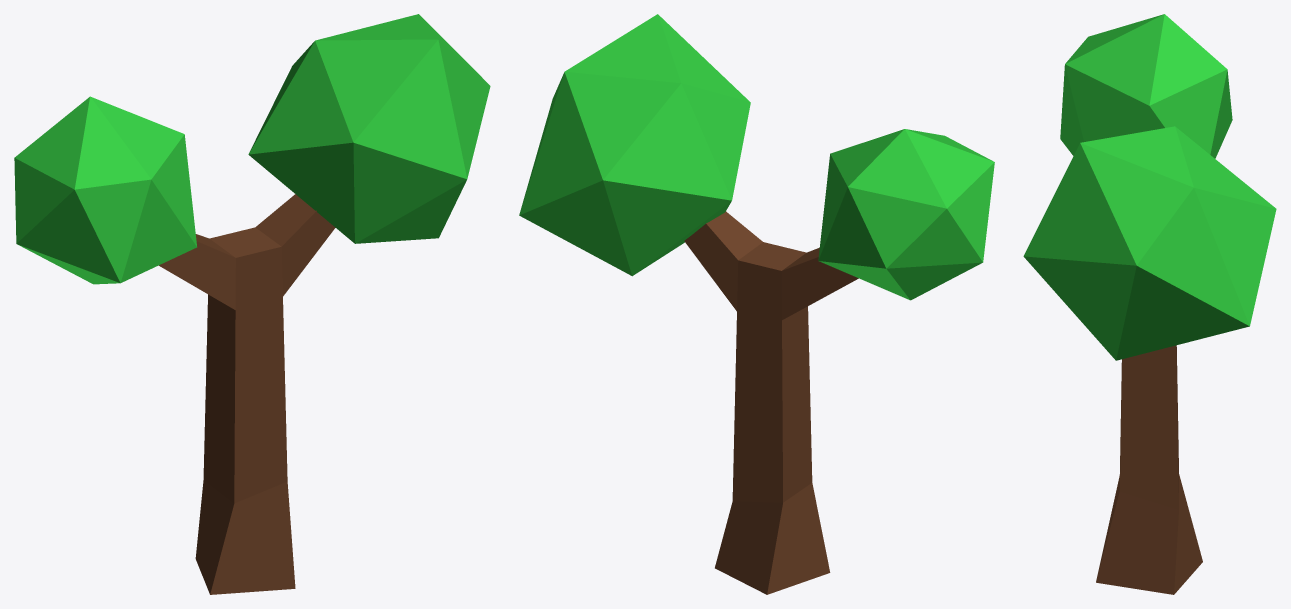
The model's file is LowPolyTree4.fbx.
3 renders of one model, left to right at view 1: azimuth 30°, elevation 25°; view 2: azimuth 150°, elevation 25°; view 3: azimuth 270°, elevation 25°, orthographic. The views are drawn at different scales.
Visible parts, largest first — view 1: Leaves, Tree4; view 2: Leaves, Tree4; view 3: Leaves, Tree4.
Part boxes in pixels (x1,y1,x2,y2): Leaves: [14, 14, 490, 284]; Tree4: [159, 194, 335, 594]; Leaves: [519, 14, 994, 300]; Tree4: [684, 211, 858, 594]; Leaves: [1023, 14, 1276, 360]; Tree4: [1096, 345, 1202, 594].
Bounding box in the file's own units: 174 × 187 × 85.24.
